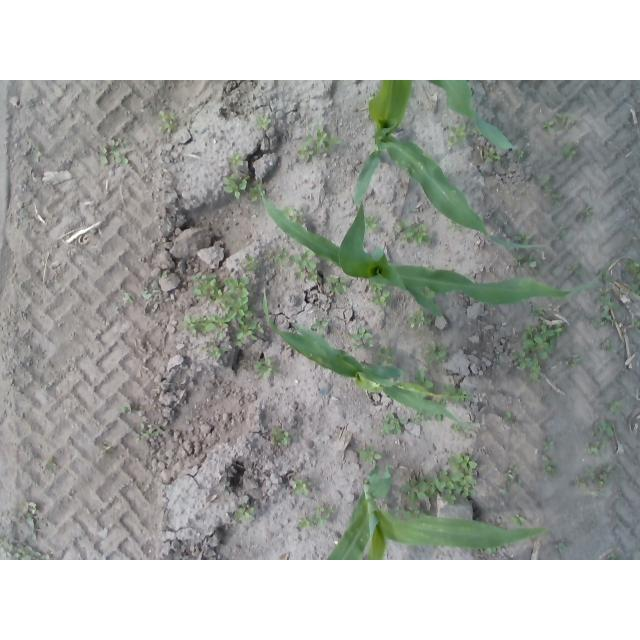Maize: (260, 188, 613, 316), (353, 81, 545, 249), (263, 288, 482, 428), (328, 481, 545, 559), (428, 81, 518, 152)
Weeds: (184, 271, 265, 359), (401, 452, 479, 517), (513, 321, 561, 383), (298, 125, 344, 167), (592, 287, 620, 333), (394, 216, 431, 244), (0, 539, 50, 559), (592, 462, 620, 494), (98, 139, 131, 166), (290, 251, 319, 281), (534, 174, 564, 200), (153, 109, 179, 135), (221, 174, 249, 198), (499, 463, 521, 493), (365, 284, 391, 307), (380, 413, 407, 435), (251, 357, 274, 382), (311, 501, 333, 527), (267, 425, 293, 447), (625, 260, 640, 296), (351, 326, 373, 350), (138, 420, 163, 441), (22, 500, 39, 529), (426, 342, 449, 363), (361, 445, 383, 466), (516, 253, 540, 272), (235, 503, 258, 522), (590, 419, 613, 438), (234, 254, 259, 271), (293, 479, 315, 498), (410, 372, 434, 389), (450, 123, 467, 146), (119, 396, 138, 416), (328, 277, 348, 296), (20, 142, 41, 160), (564, 351, 586, 368), (378, 346, 397, 365), (267, 245, 286, 264), (528, 303, 548, 321), (584, 443, 606, 458), (409, 312, 431, 327), (141, 281, 160, 298), (540, 455, 557, 473), (255, 113, 273, 130), (557, 112, 576, 128), (310, 316, 330, 330), (296, 516, 313, 532), (282, 208, 302, 221), (567, 263, 581, 281), (513, 231, 531, 245), (442, 385, 466, 395), (609, 400, 624, 415), (250, 184, 263, 201), (579, 203, 593, 218), (564, 147, 578, 162), (504, 410, 516, 427), (228, 154, 245, 166), (366, 216, 379, 231), (626, 316, 640, 329), (556, 227, 568, 242), (483, 147, 498, 159), (570, 477, 586, 488), (45, 456, 55, 473), (554, 540, 567, 553), (512, 514, 525, 527), (541, 120, 555, 132), (584, 465, 595, 480), (101, 443, 112, 457), (602, 341, 615, 352), (544, 438, 553, 453), (441, 398, 468, 403), (450, 222, 462, 233), (470, 125, 482, 135), (485, 548, 502, 555), (121, 294, 132, 303), (415, 413, 427, 421), (607, 552, 618, 560), (517, 151, 528, 158), (450, 425, 462, 431), (500, 220, 509, 228), (436, 413, 445, 420), (114, 308, 122, 315), (163, 272, 169, 277)
